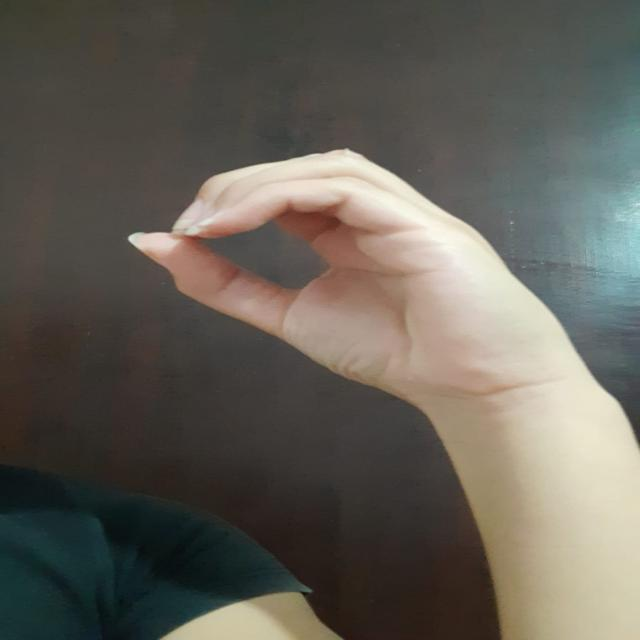O: (103, 146, 588, 382)
